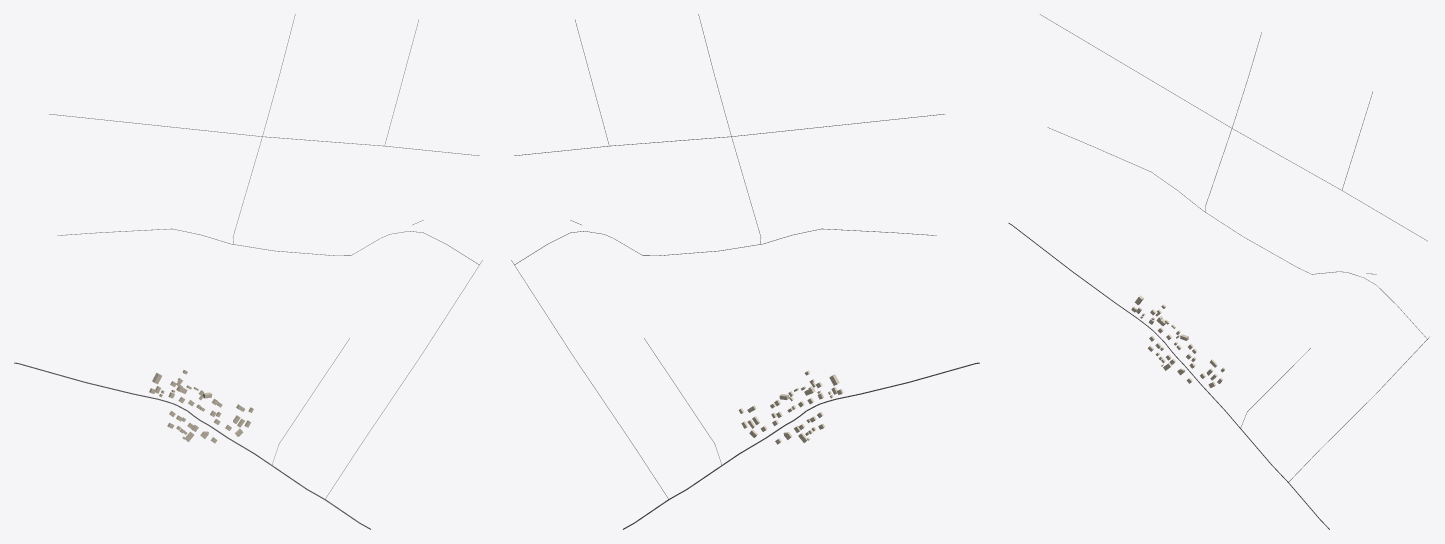
File: historic-palestine-05_24_3472_3180.glb
3 renders of one model, left to right at view 1: azimuth 30°, elevation 25°; view 2: azimuth 150°, elevation 25°; view 3: azimuth 330°, elevation 25°, orthographic. The views are drawn at different scales.
Parts seen in each view (by area): view 1: Road החיילים; view 2: Road החיילים; view 3: Road החיילים.
Part boxes in pixels (bbox=[...]): Road החיילים: bbox=[14, 362, 370, 529]; Road החיילים: bbox=[623, 362, 979, 529]; Road החיילים: bbox=[1008, 223, 1329, 529].
Bounding box in the file's own units: 1499 × 1632 × 13.6.
